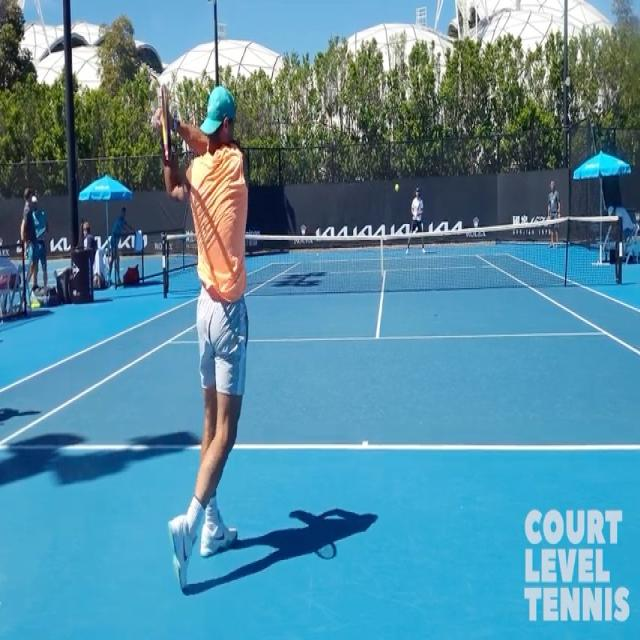backhand-finish: (142, 86, 274, 593)
